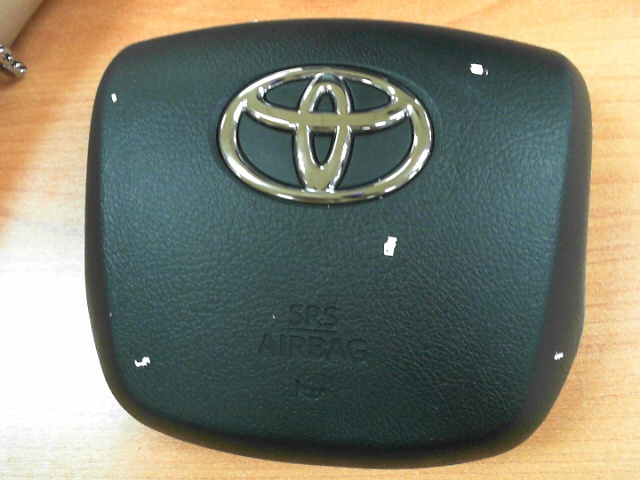Airbag: (383, 236, 397, 257), (469, 63, 489, 77), (134, 356, 151, 367), (553, 352, 563, 361), (111, 93, 118, 104)
